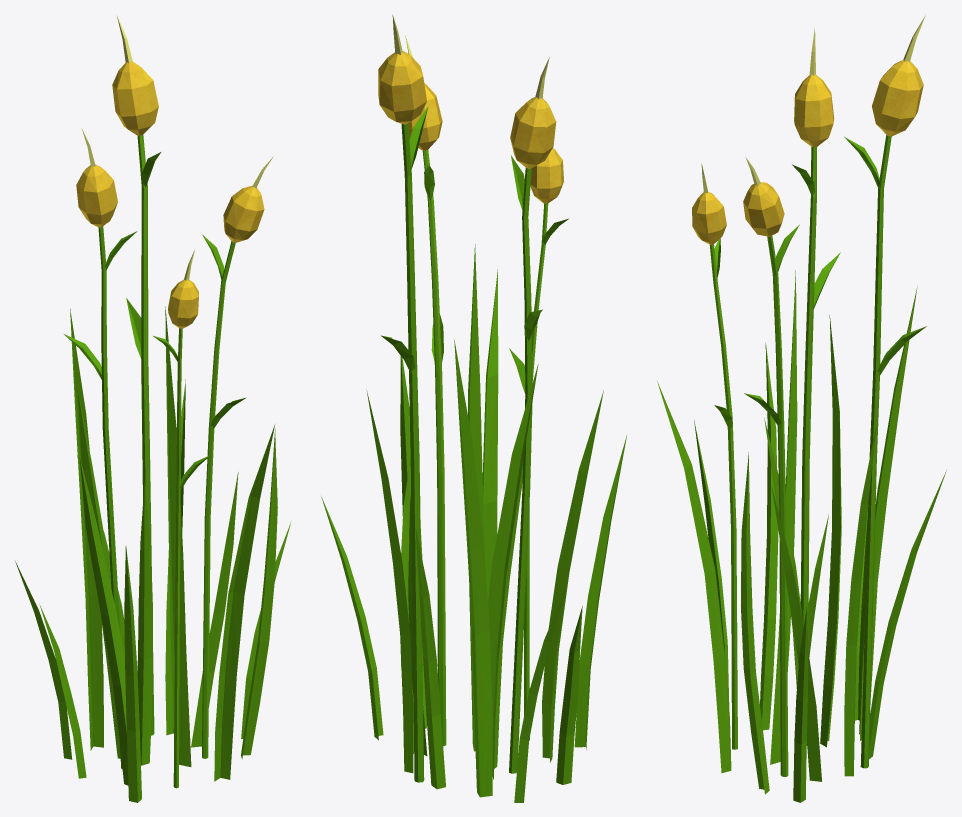
File: PuffReed4_Yellow.fbx
3 views of the same model, side by side, from view 1: azimuth 30°, elevation 25°; view 2: azimuth 150°, elevation 25°; view 3: azimuth 270°, elevation 25° (orthographic). The views are drawn at different scales.
Visible parts, largest first — view 1: Mesh; view 2: Mesh; view 3: Mesh.
Part boxes in pixels (left/top/right/bottom): Mesh: left=15, top=16, right=290, bottom=802; Mesh: left=321, top=15, right=627, bottom=802; Mesh: left=657, top=15, right=946, bottom=802.
Bounding box in the file's own units: 162 × 439 × 154.
